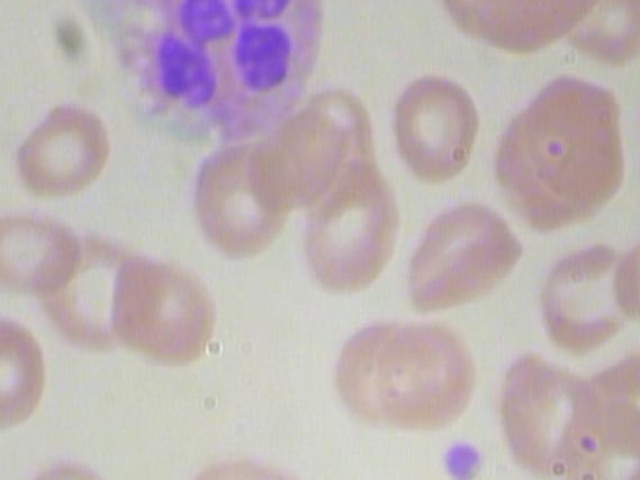Platelets: (439, 433, 494, 480)
RBC: (517, 68, 636, 214), (400, 191, 529, 320), (104, 247, 223, 380), (493, 344, 610, 479), (293, 159, 409, 292), (186, 131, 302, 264), (375, 303, 481, 438), (536, 235, 640, 357), (12, 90, 108, 209), (388, 71, 484, 189), (0, 208, 88, 303), (465, 0, 607, 58), (0, 314, 68, 433), (177, 445, 315, 480)
WBC: (78, 0, 328, 146)
